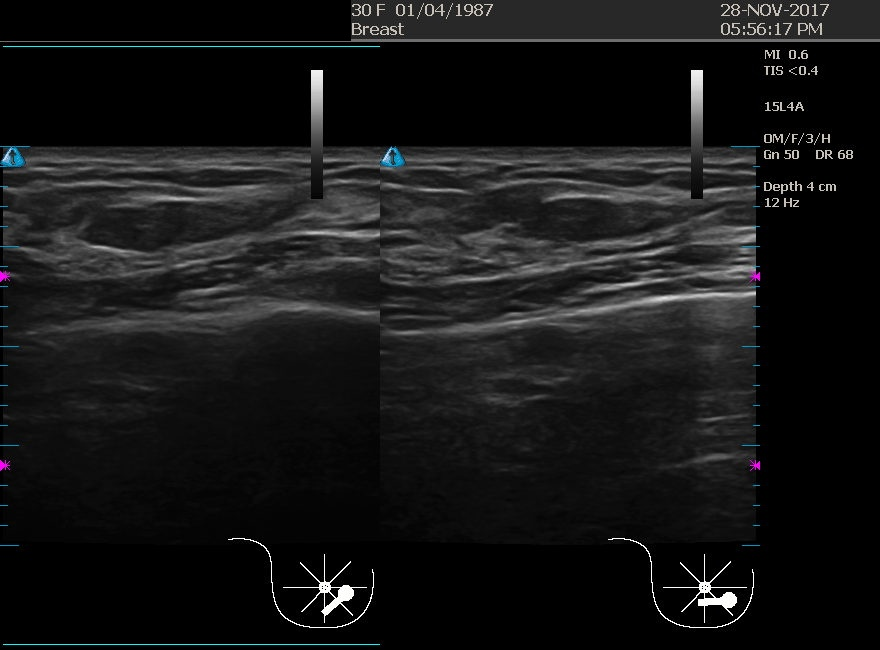BIRADS_4: (516, 200, 716, 400), (67, 182, 267, 382)
